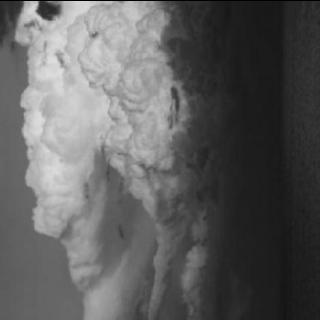Cumulonimbus: (0, 0, 288, 320)
